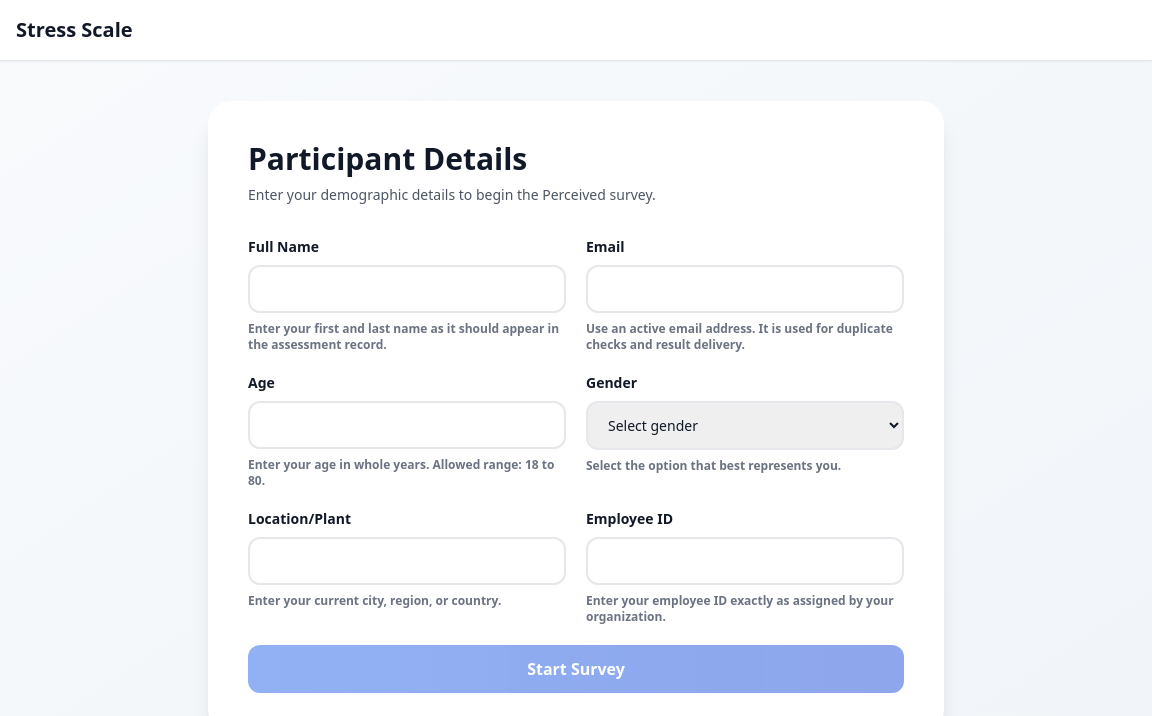
Scenario: AssessmentPage › blocks a repeated submission returned by prevalidation
Step 1. Type "Test User" into the field labelled "Full Name" → (407, 289), box [248,265,566,313]
Step 2. Type "test@example.com" into the field labelled "Email" → (745, 289), box [586,265,904,313]
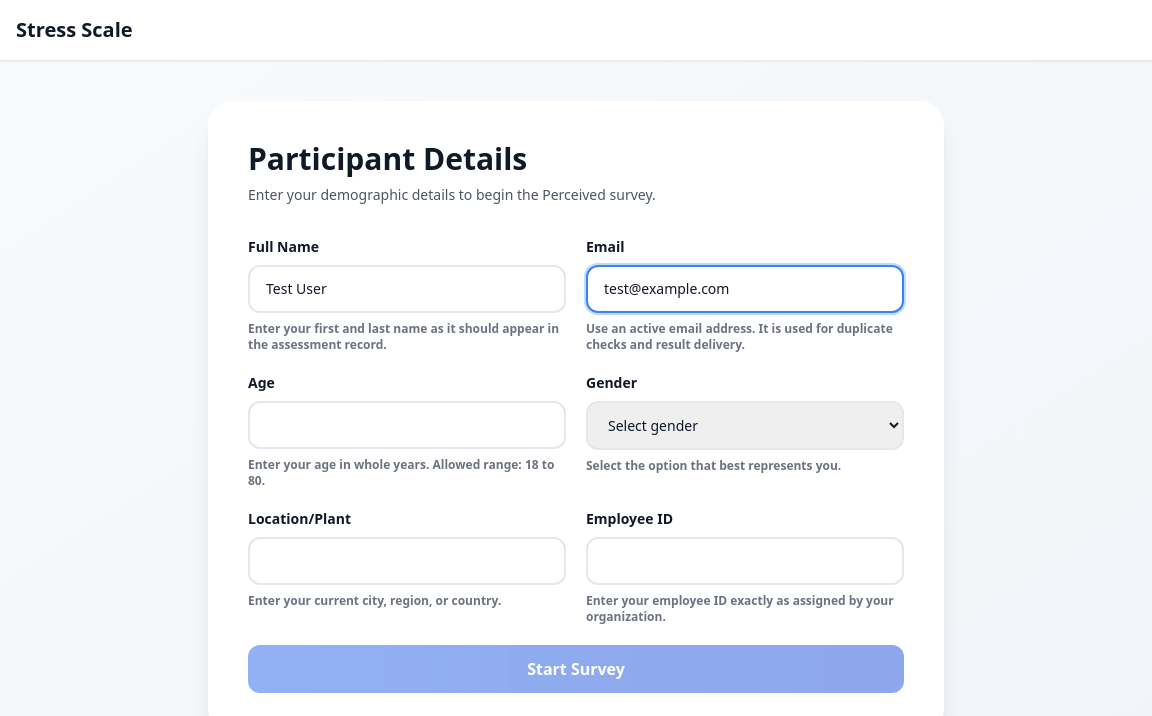
Step 3. Type "29" into the number field labelled "Age Enter your age in whole years. Allowed range: 18 to 80." → (407, 425), box [248,401,566,449]
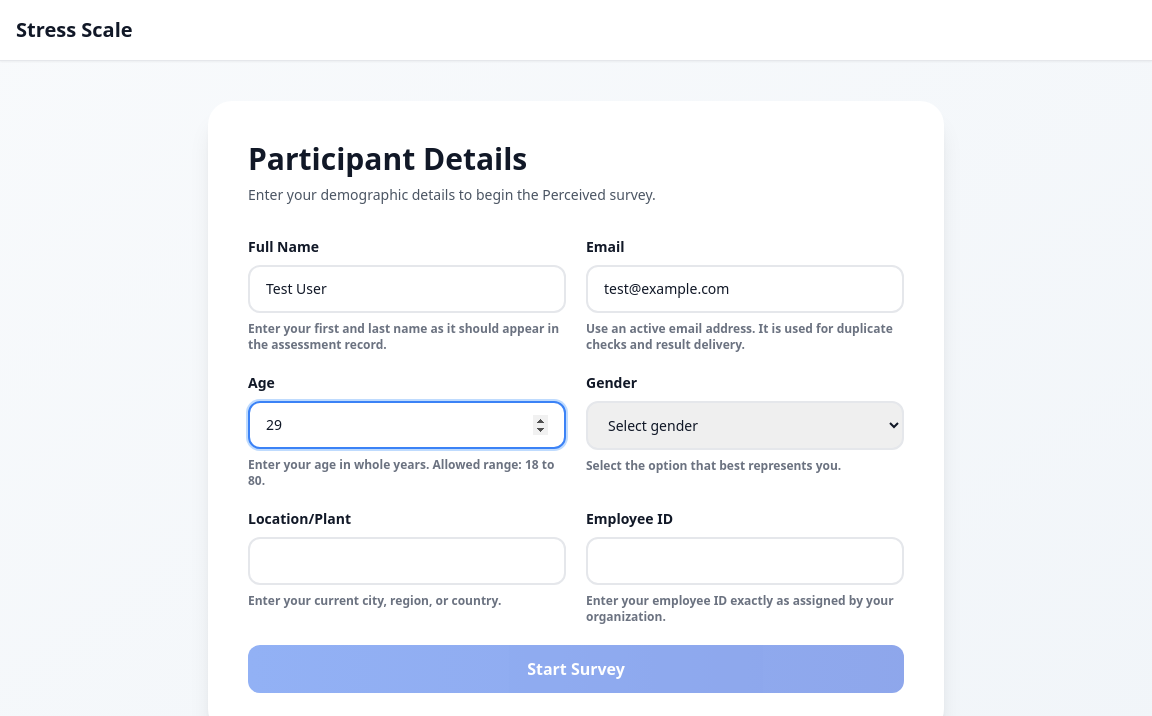
Step 4. Select "Female" in the dropdown labelled "Gender Select the option that best represents you." → (745, 426), box [586,401,904,450]
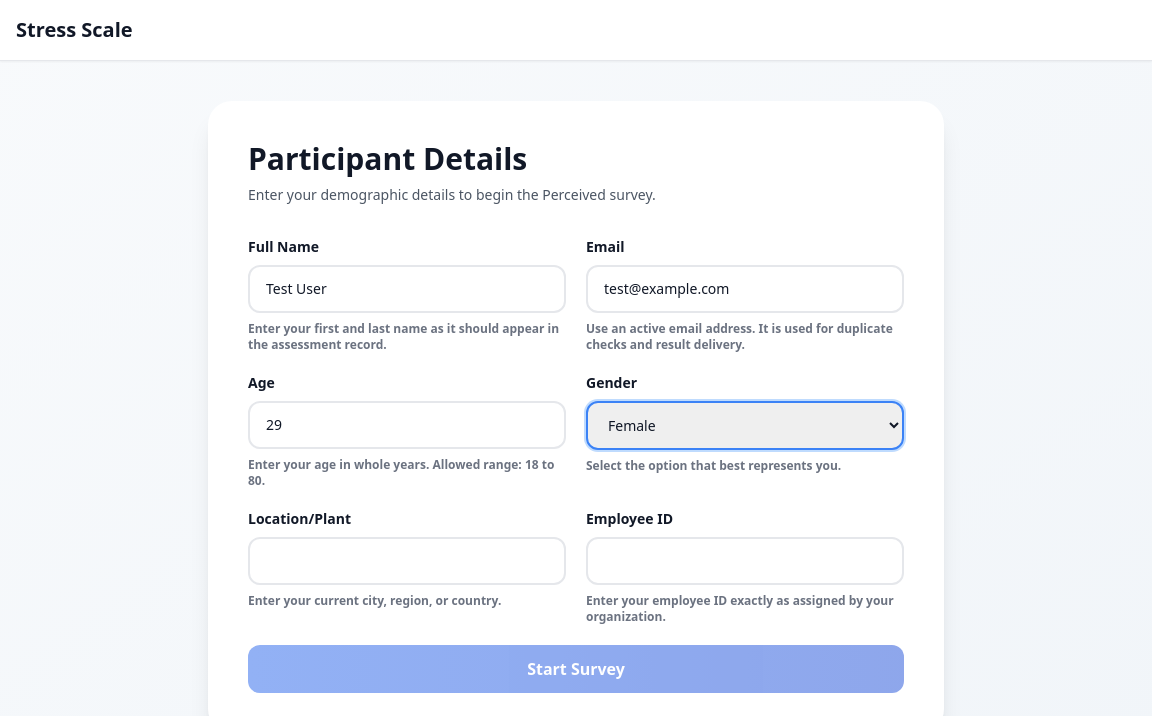
Step 5. Type "Mumbai" into the field labelled "Location/Plant Enter your current city, region, or country." → (407, 561), box [248,537,566,585]
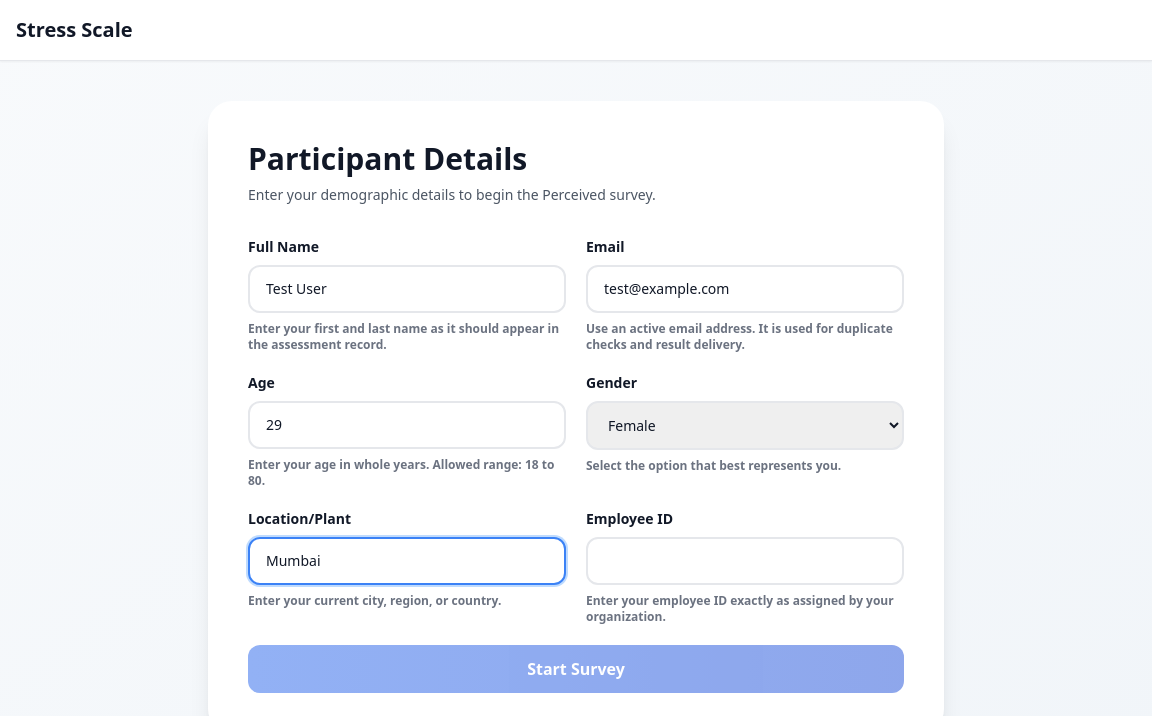
Step 6. Type "EMP-123" into the field labelled "Employee ID" → (745, 561), box [586,537,904,585]
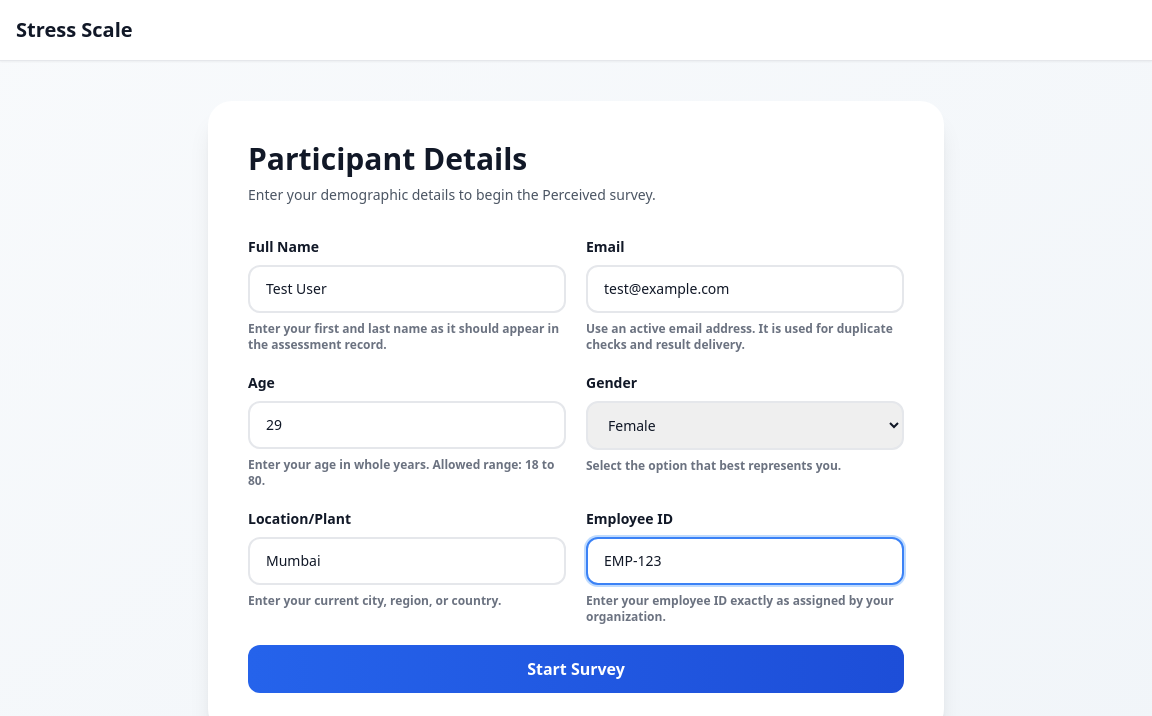
Step 7. Click the button "Start Survey" → (576, 669), box [248,645,904,693]
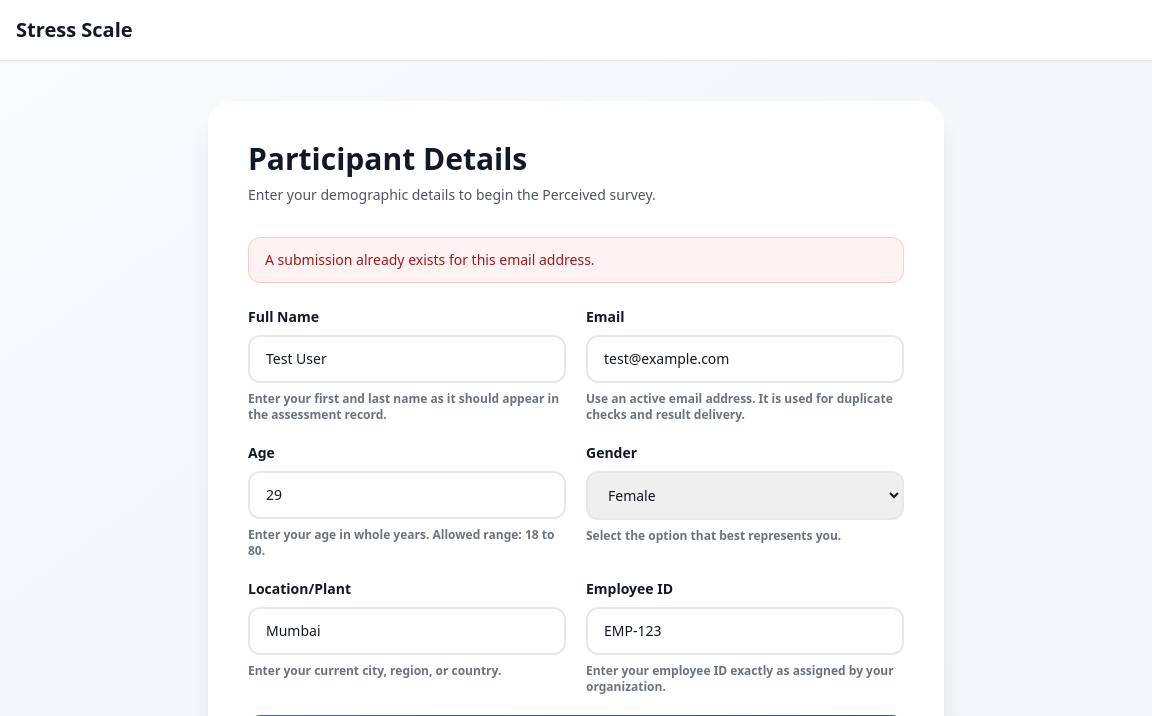
Expected: the text "A submission already exists for this email address." is shown, [248,237,904,283]
